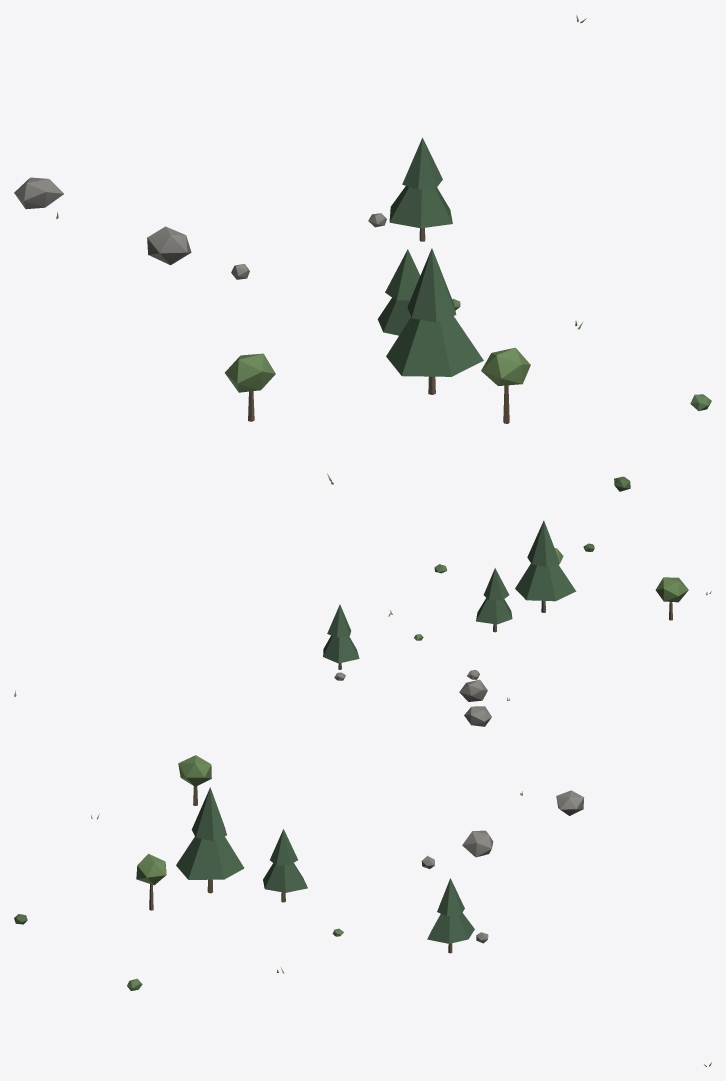
Rendered from arch_land_scatter_c21_20_lod1.glb.
3 renders of one model, top to bottom at view 1: azimuth 30°, elevation 25°; view 2: azimuth 150°, elevation 25°; view 3: azimuth 270°, elevation 25°, orthographic. The views are drawn at different scales.
Visible parts, largest first — view 1: arch_land_scatter_c21_20_lod1; view 2: arch_land_scatter_c21_20_lod1; view 3: arch_land_scatter_c21_20_lod1.
Part boxes in pixels (bbox=[...]): arch_land_scatter_c21_20_lod1: bbox=[14, 15, 711, 491]; arch_land_scatter_c21_20_lod1: bbox=[14, 520, 711, 726]; arch_land_scatter_c21_20_lod1: bbox=[14, 755, 711, 1066].
Size of the model in its own units: 68.58 by 16.19 by 80.96.
